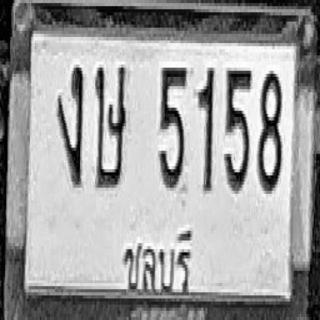A07: (57, 64, 83, 184)
A39: (95, 65, 126, 188)
N01: (197, 66, 214, 192)
N05: (224, 68, 252, 191), (159, 65, 186, 188)
N08: (258, 68, 281, 191)
P13: (120, 212, 193, 302)
